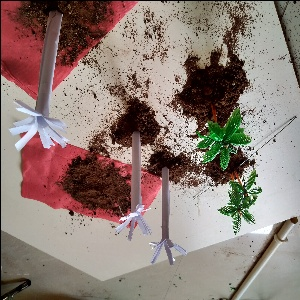plant: (188, 93, 252, 192), (215, 173, 262, 229)
weed: (11, 15, 68, 146), (109, 136, 154, 237), (148, 178, 189, 273)
